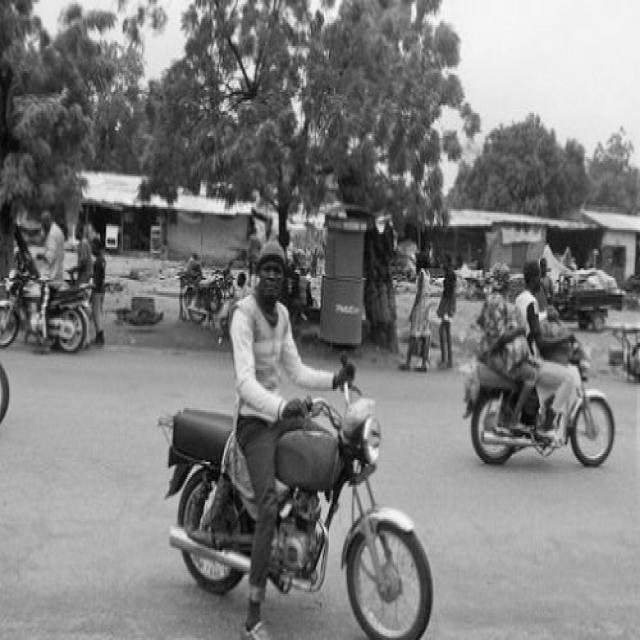Motorbike: (156, 241, 433, 640), (463, 259, 615, 467), (0, 212, 91, 353)
